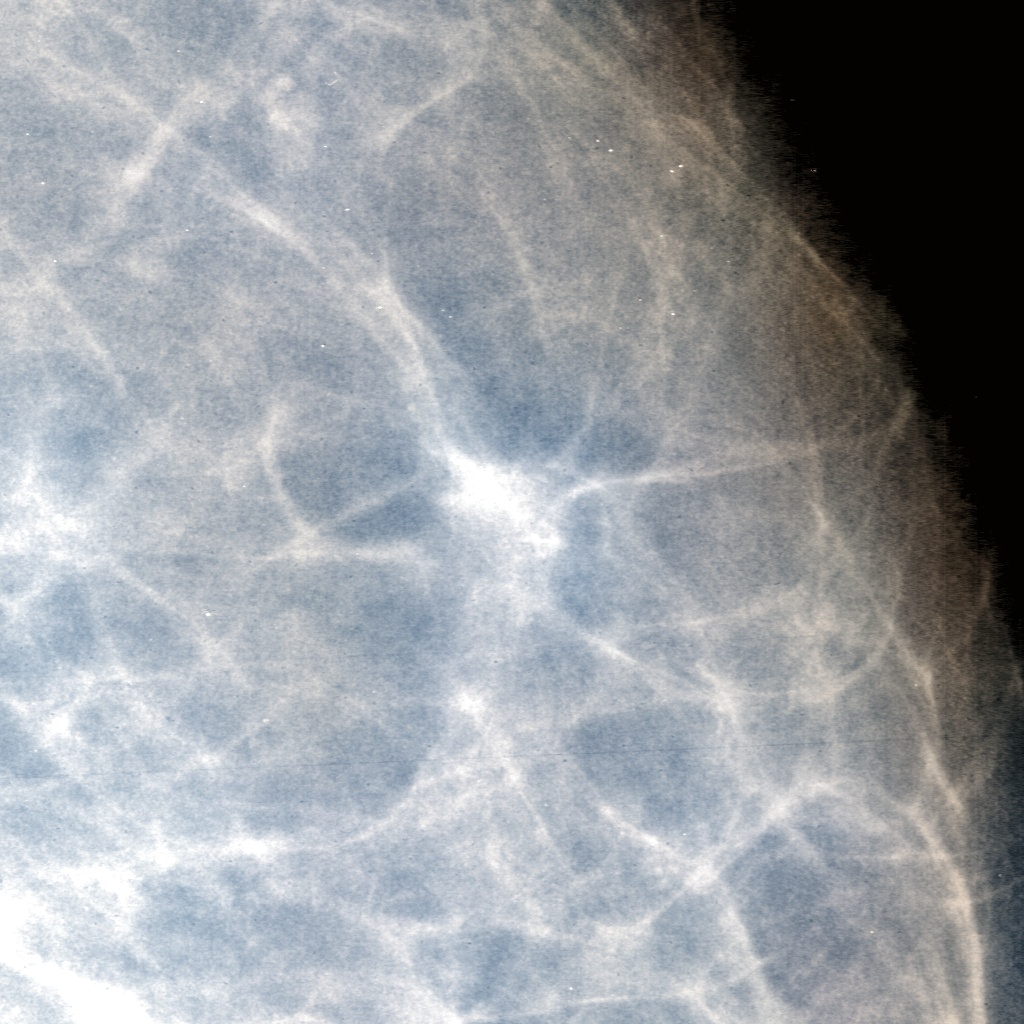tumor: (411, 407, 613, 617)
